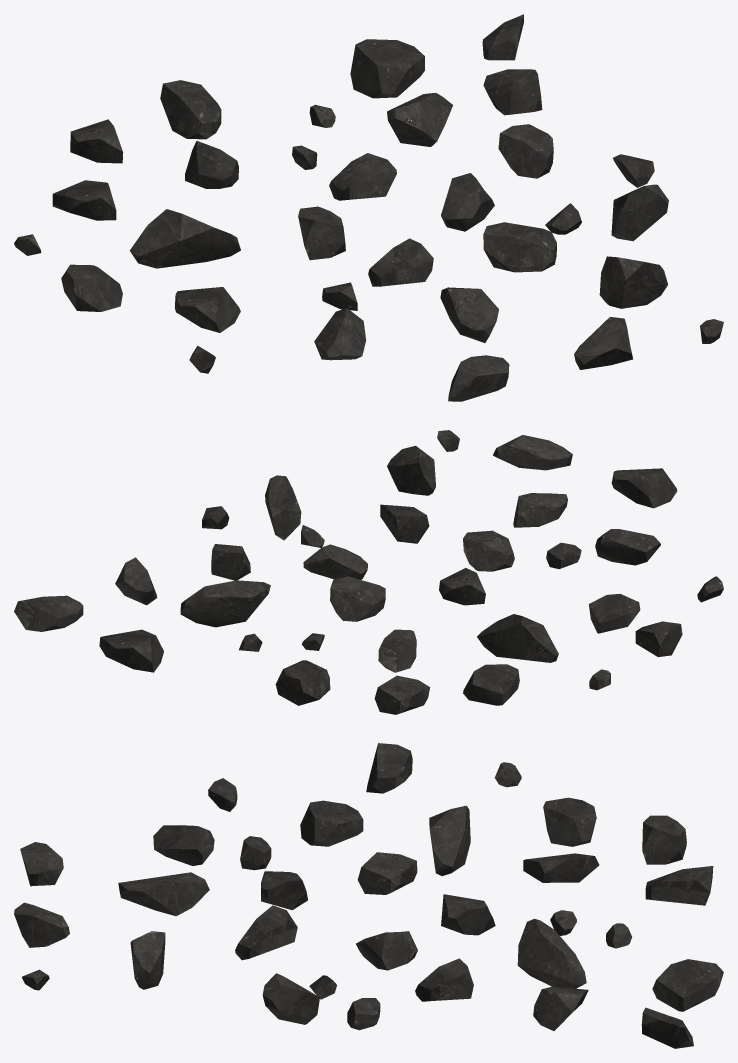
3 renders of one model, top to bottom at view 1: azimuth 30°, elevation 25°; view 2: azimuth 150°, elevation 25°; view 3: azimuth 270°, elevation 25°, orthographic. The views are drawn at different scales.
Visible parts, largest first — view 1: SM_DR_Rubble_Small_01_LOD0; view 2: SM_DR_Rubble_Small_01_LOD0; view 3: SM_DR_Rubble_Small_01_LOD0.
Part boxes in pixels (bbox=[...]): SM_DR_Rubble_Small_01_LOD0: bbox=[14, 14, 723, 401]; SM_DR_Rubble_Small_01_LOD0: bbox=[14, 430, 723, 714]; SM_DR_Rubble_Small_01_LOD0: bbox=[14, 743, 723, 1048].
Bounding box in the file's own units: 5.09 × 0.5099 × 5.41.
Materials: 1 (1 with a texture image).
